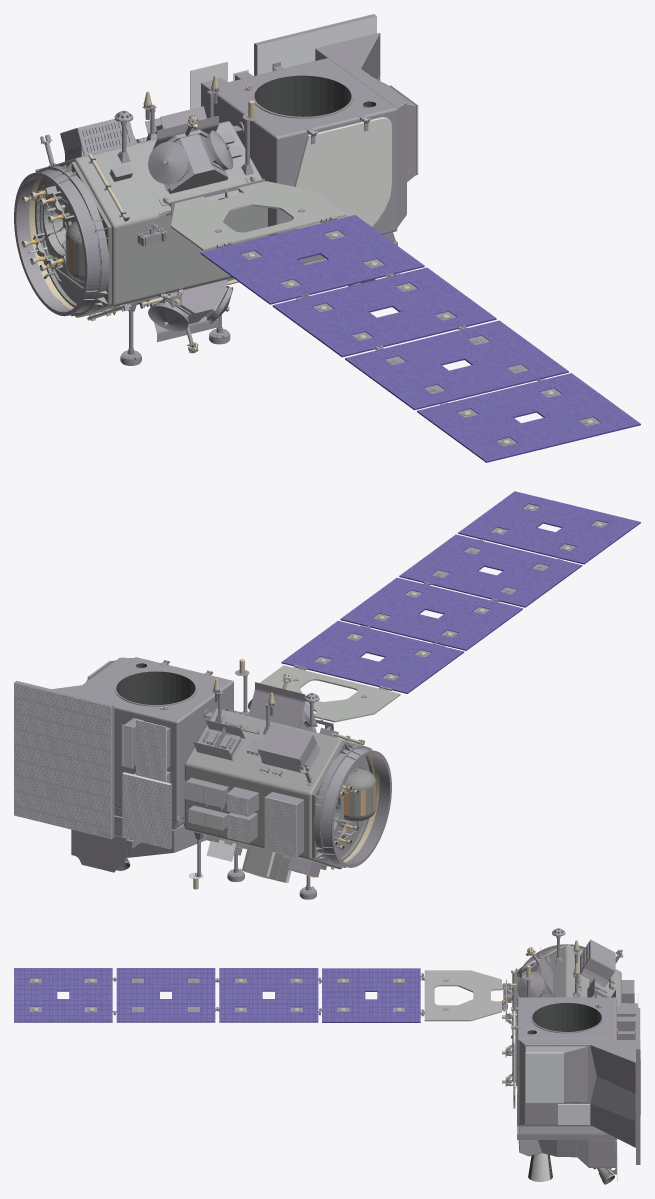
Rendered from icesat-2-a.glb.
3 renders of one model, top to bottom at view 1: azimuth 30°, elevation 25°; view 2: azimuth 150°, elevation 25°; view 3: azimuth 270°, elevation 25°, orthographic. The views are drawn at different scales.
Visible parts, largest first — view 1: MainBus; view 2: MainBus; view 3: MainBus.
Boxes of the visible parts, x1,y1,x2,y2 form: MainBus: (14,14,640,462); MainBus: (14,491,640,899); MainBus: (14,928,640,1184).
Bounding box in the file's own units: 3.74 × 2.38 × 7.56.
4 materials, 4 textured.
